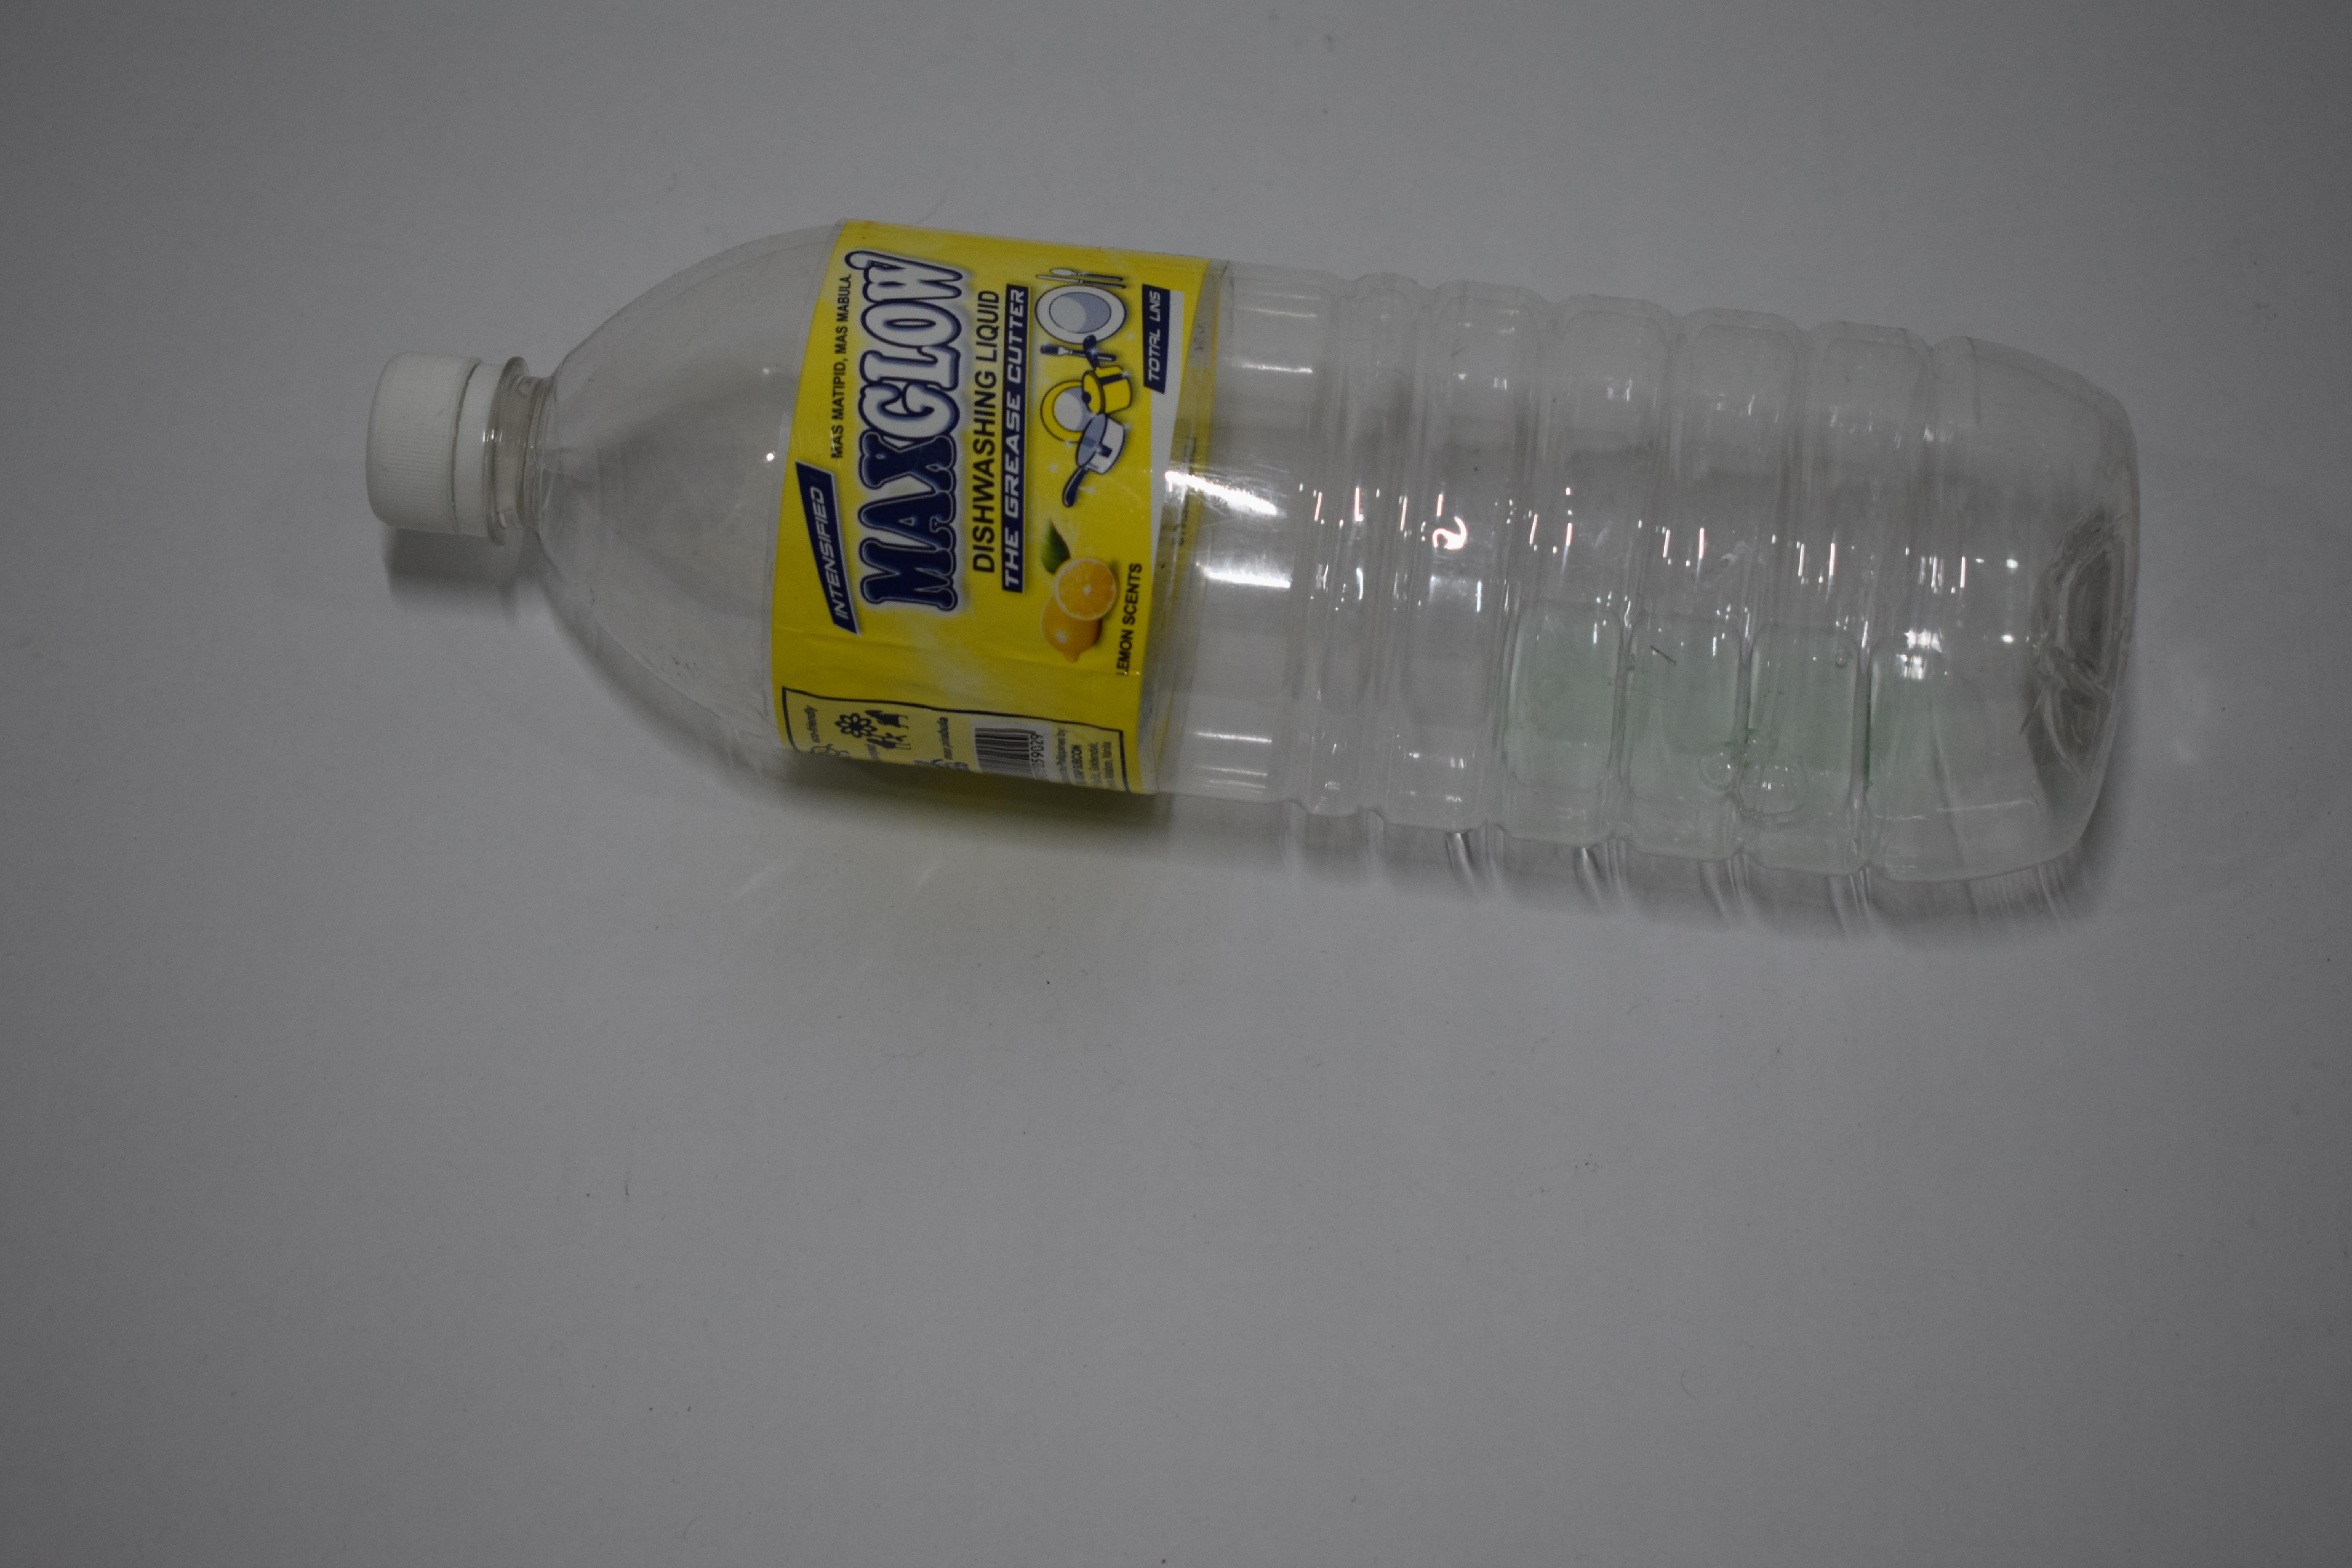bottle: (0, 159, 968, 788)
